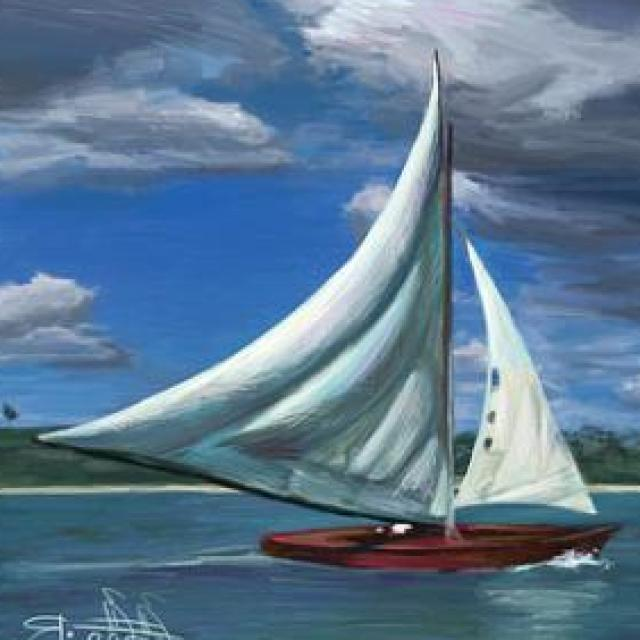sailboat: (66, 51, 611, 570)
